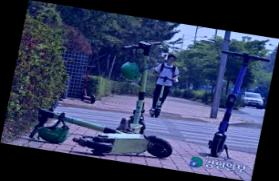nonhelmet: (143, 51, 185, 122)
